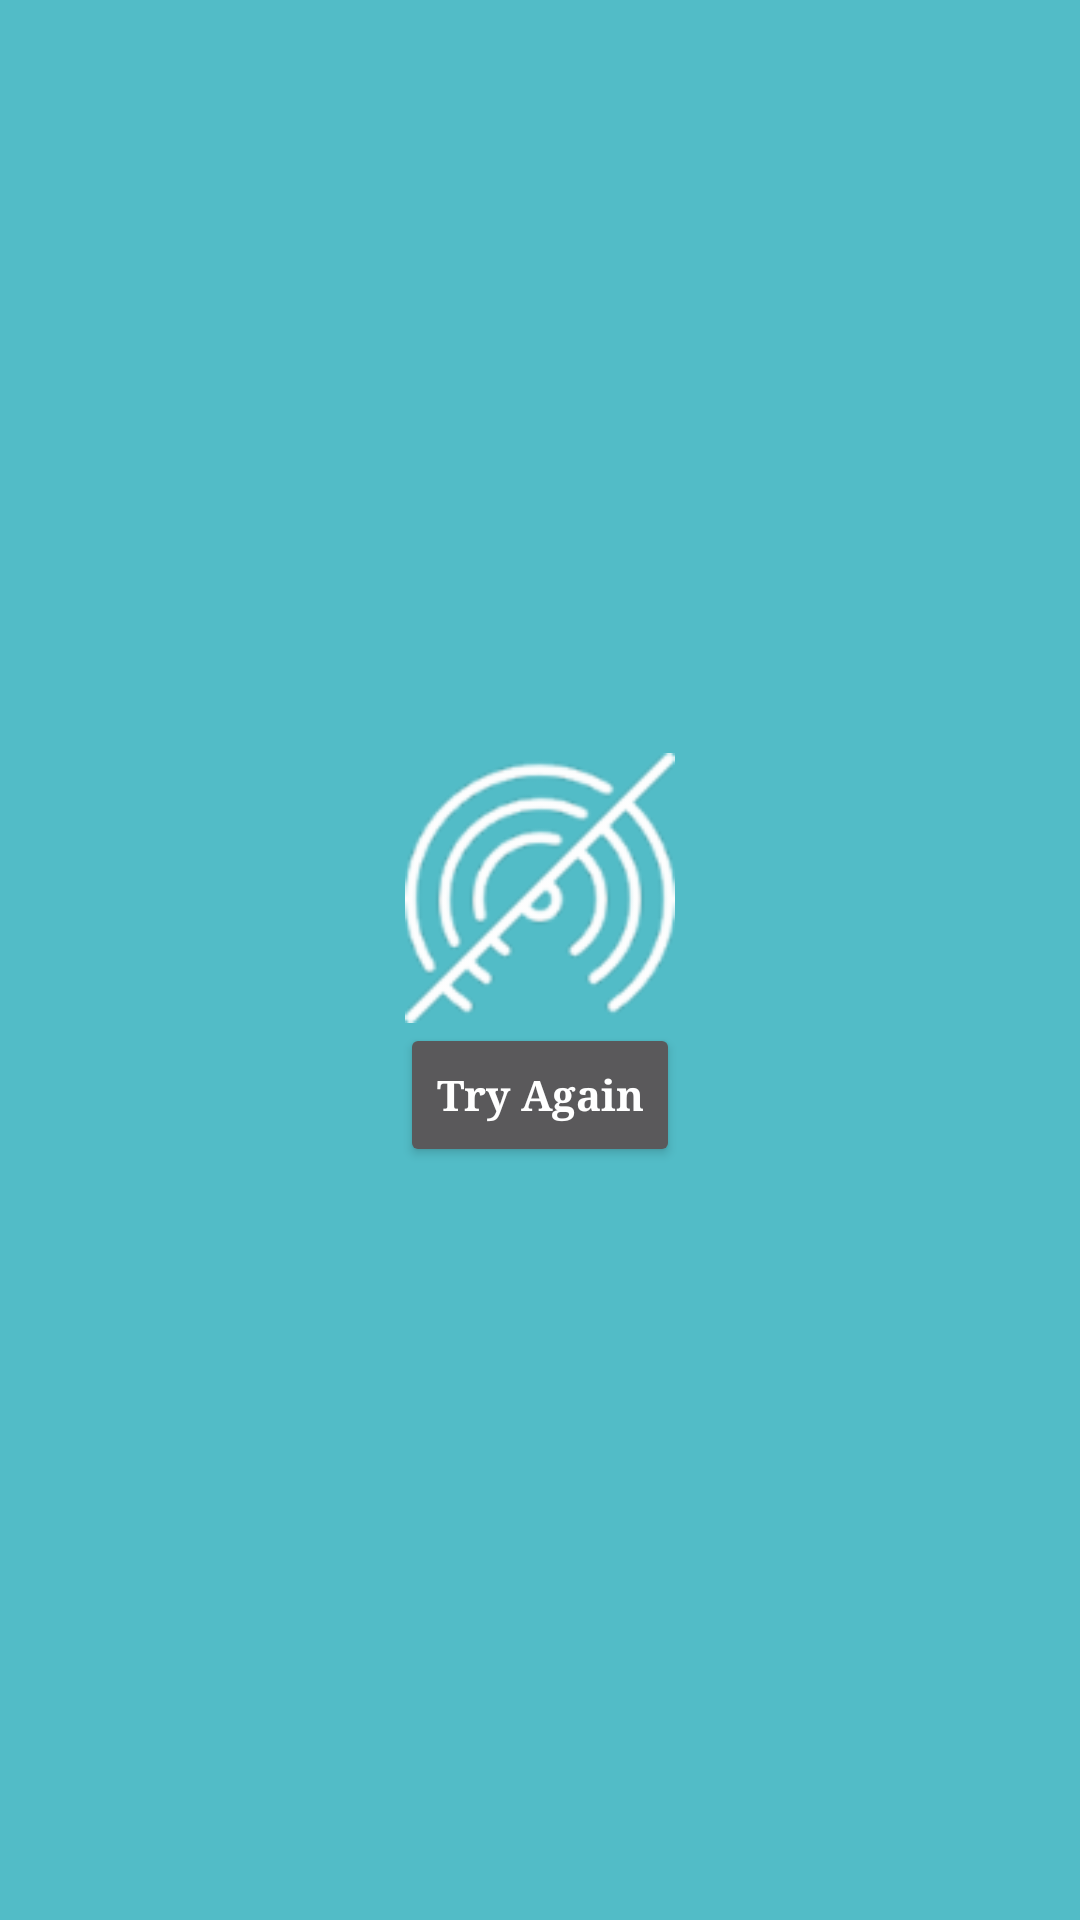

Point at icon controls on the screen. Image size 1080 x 1920, points as [x,y].
no wifi: [540,888]
